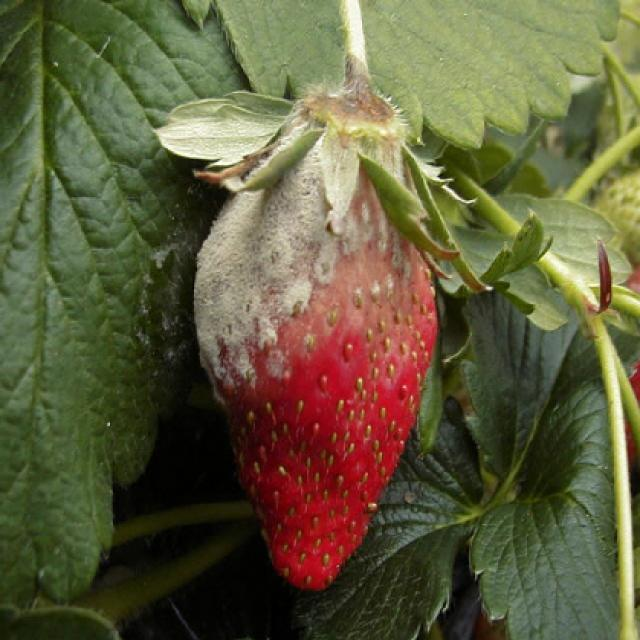Gray Mold: (192, 152, 440, 588)
